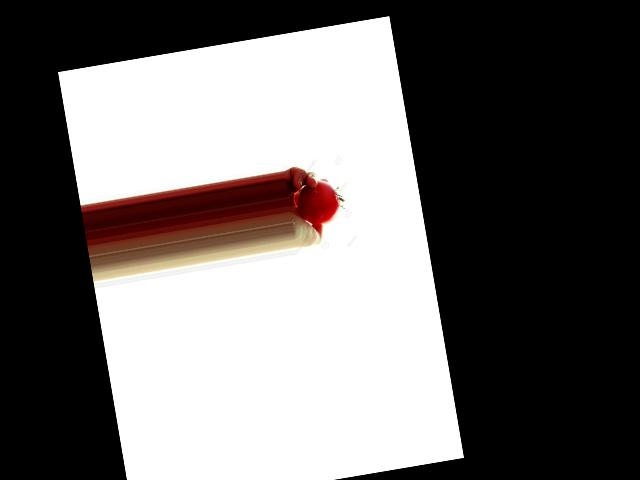tomato: (293, 176, 343, 227)
